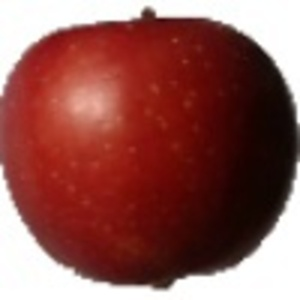maçã braeburn: (1, 8, 300, 287)
